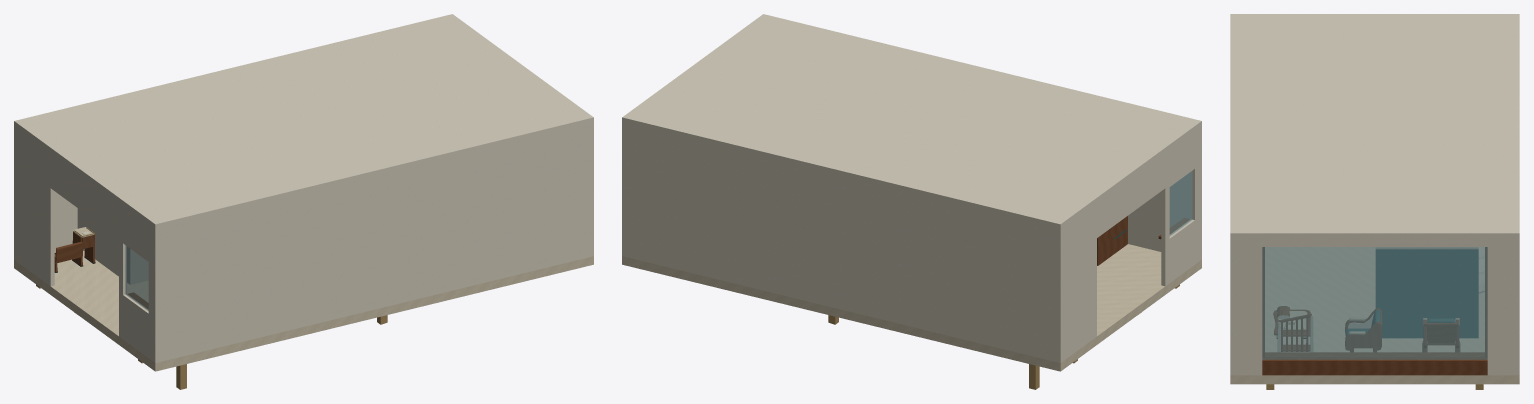
File: QuietGroveBank_409_r001.glb
The picture shows the model from 3 angles, left to right: view 1: azimuth 30°, elevation 25°; view 2: azimuth 150°, elevation 25°; view 3: azimuth 270°, elevation 25°; orthographic projection. The views are drawn at different scales.
Visible parts, largest first — view 1: QG409_Ceiling, QG409_NorthSide, QG409_RoomFloor, QG409_EntryShoulderSouth, QG409_EntryHeader, QG409_StreetWindowLower, QG409_WashEntrySide, QG409_SouthSide, QG409_StreetWindowUpper, QG409_ScreenedStreetGlass; view 2: QG409_Ceiling, QG409_SouthSide, QG409_RoomFloor, QG409_EntryShoulderSouth, QG409_NorthSide, QG409_EntryHeader, QG409_StreetWindowLower, QG409_StreetWindowUpper, QG409_ScreenedStreetGlass, QG409_EntryPrivacyDogleg; view 3: QG409_Ceiling, QGB409_PrivateCourtGlass, QG409_RoomFloor, QG409_Cocoon01_RearLiner, QGB409_CourtNorthPier, QGB409_CourtSouthPier, QGB409_CourtSill, QGB409_CourtHeader, QGB409_DeepReveal_0.34, QG409_NorthSide, QG409_SouthSide, QG409_QG409_DayReadingChair__DAY_CHAIR_L_swept_walnut_cheek (+5 smaller).
Boxes of the visible parts, bbox=[...] form: QG409_Ceiling: bbox=[14, 14, 593, 229]; QG409_NorthSide: bbox=[153, 123, 593, 362]; QG409_RoomFloor: bbox=[14, 250, 593, 371]; QG409_EntryShoulderSouth: bbox=[16, 128, 54, 286]; QG409_EntryHeader: bbox=[49, 152, 119, 238]; QG409_StreetWindowLower: bbox=[119, 292, 152, 360]; QG409_WashEntrySide: bbox=[77, 208, 133, 284]; QG409_SouthSide: bbox=[14, 127, 77, 260]; QG409_StreetWindowUpper: bbox=[119, 204, 152, 264]; QG409_ScreenedStreetGlass: bbox=[125, 245, 148, 310]; QG409_Ceiling: bbox=[622, 14, 1201, 229]; QG409_SouthSide: bbox=[622, 123, 1062, 362]; QG409_RoomFloor: bbox=[622, 244, 1201, 371]; QG409_EntryShoulderSouth: bbox=[1063, 204, 1096, 360]; QG409_NorthSide: bbox=[1128, 127, 1201, 260]; QG409_EntryHeader: bbox=[1096, 152, 1166, 237]; QG409_StreetWindowLower: bbox=[1161, 217, 1199, 286]; QG409_StreetWindowUpper: bbox=[1163, 128, 1199, 190]; QG409_ScreenedStreetGlass: bbox=[1169, 171, 1192, 235]; QG409_EntryPrivacyDogleg: bbox=[1097, 216, 1127, 265]; QG409_Ceiling: bbox=[1230, 14, 1519, 238]; QGB409_PrivateCourtGlass: bbox=[1262, 247, 1487, 359]; QG409_RoomFloor: bbox=[1230, 247, 1519, 384]; QG409_Cocoon01_RearLiner: bbox=[1378, 249, 1475, 337]; QGB409_CourtNorthPier: bbox=[1487, 239, 1519, 375]; QGB409_CourtSouthPier: bbox=[1230, 239, 1262, 375]; QGB409_CourtSill: bbox=[1262, 358, 1487, 375]; QGB409_CourtHeader: bbox=[1262, 239, 1487, 246]; QGB409_DeepReveal_0.34: bbox=[1265, 352, 1484, 357]; QG409_NorthSide: bbox=[1230, 239, 1234, 375]; QG409_SouthSide: bbox=[1515, 239, 1519, 375]; QG409_QG409_DayReadingChair__DAY_CHAIR_L_swept_walnut_cheek: bbox=[1345, 322, 1381, 350].
Size of the model in its own units: 12.9 by 5.31 by 7.2.
64 materials, 49 textured.
